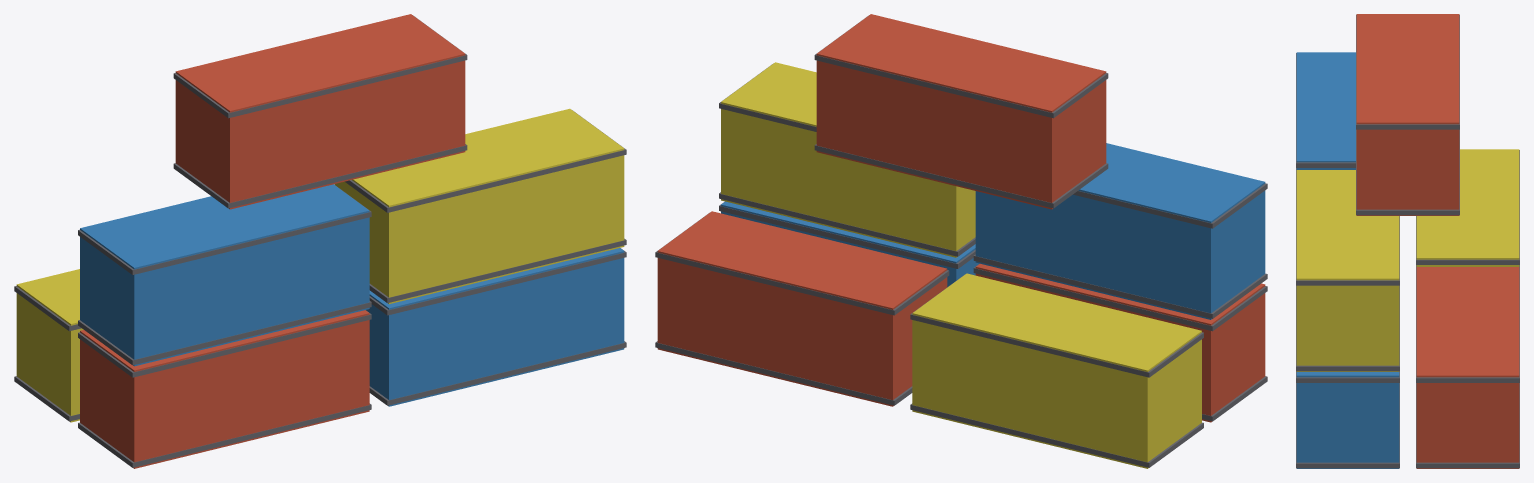
The model's file is HARBOR_PROP_ContainerStack_MD.glb.
The picture shows the model from 3 angles, left to right: view 1: azimuth 30°, elevation 25°; view 2: azimuth 150°, elevation 25°; view 3: azimuth 270°, elevation 25°; orthographic projection. The views are drawn at different scales.
Visible parts, largest first — view 1: HARBOR_PROP_ContainerStack_MD; view 2: HARBOR_PROP_ContainerStack_MD; view 3: HARBOR_PROP_ContainerStack_MD.
Boxes of the visible parts, x1=… form: HARBOR_PROP_ContainerStack_MD: x1=14, y1=14, x2=626, y2=468; HARBOR_PROP_ContainerStack_MD: x1=655, y1=14, x2=1267, y2=468; HARBOR_PROP_ContainerStack_MD: x1=1296, y1=14, x2=1519, y2=468.
Bounding box in the file's own units: 12.6 × 7.4 × 5.22.
